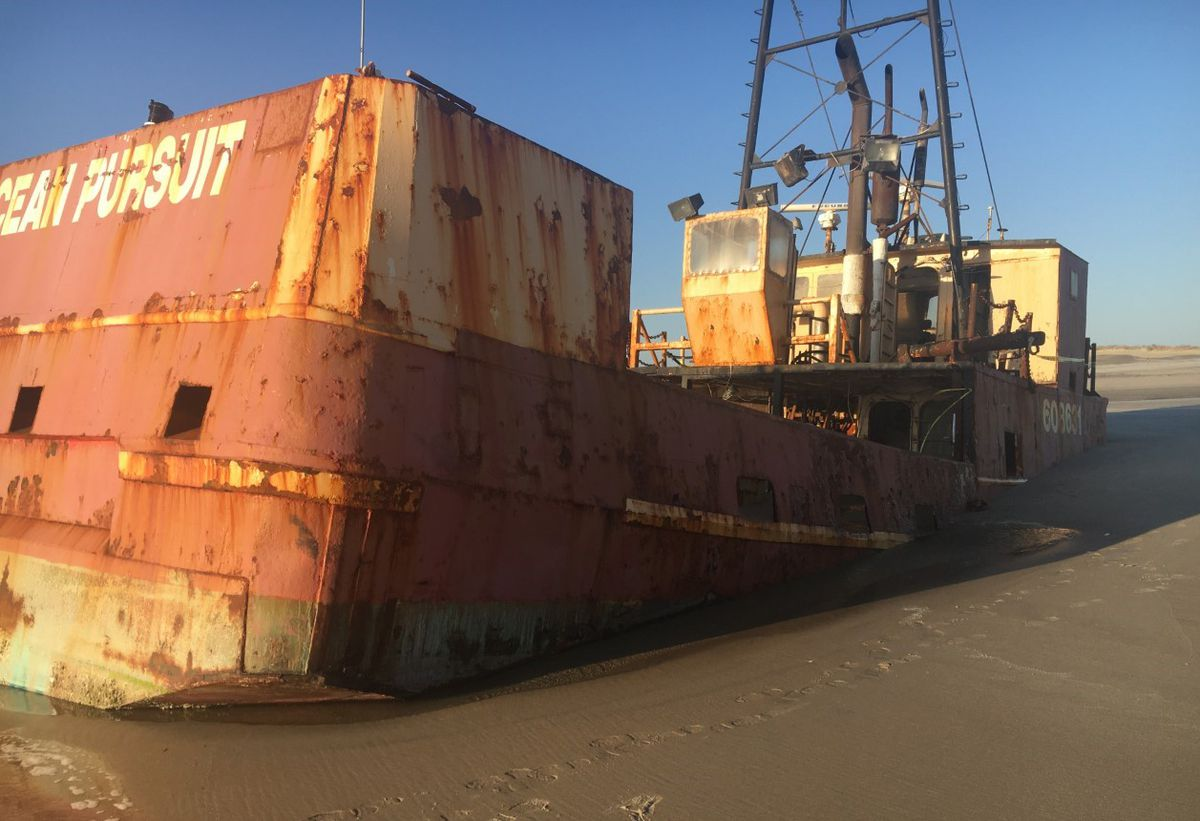rust: (124, 452, 422, 572), (307, 83, 380, 315), (95, 639, 333, 710), (431, 105, 501, 329), (572, 173, 638, 368), (5, 313, 274, 349), (1, 480, 42, 691)
